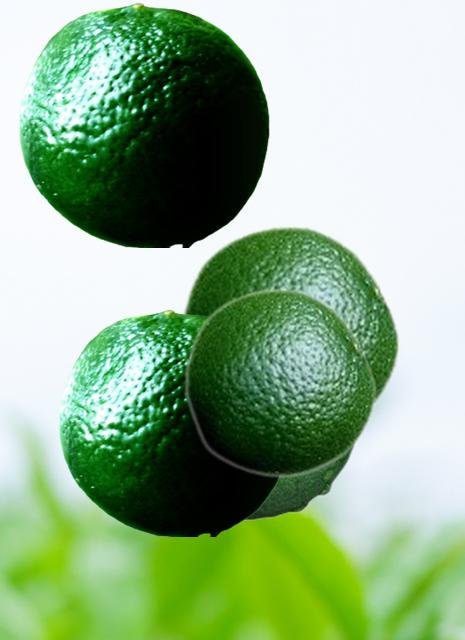calamansi: (19, 2, 268, 246), (59, 309, 280, 535), (179, 224, 400, 410), (183, 287, 376, 478), (247, 442, 359, 519)
